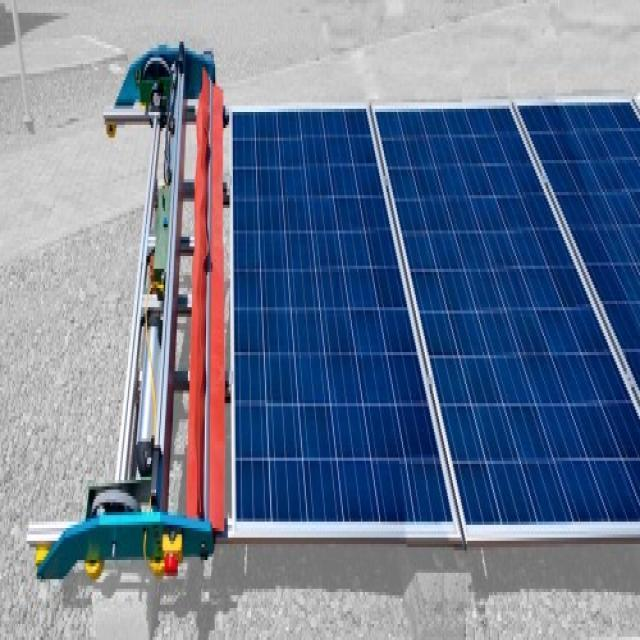no faulty: (222, 100, 636, 532)
